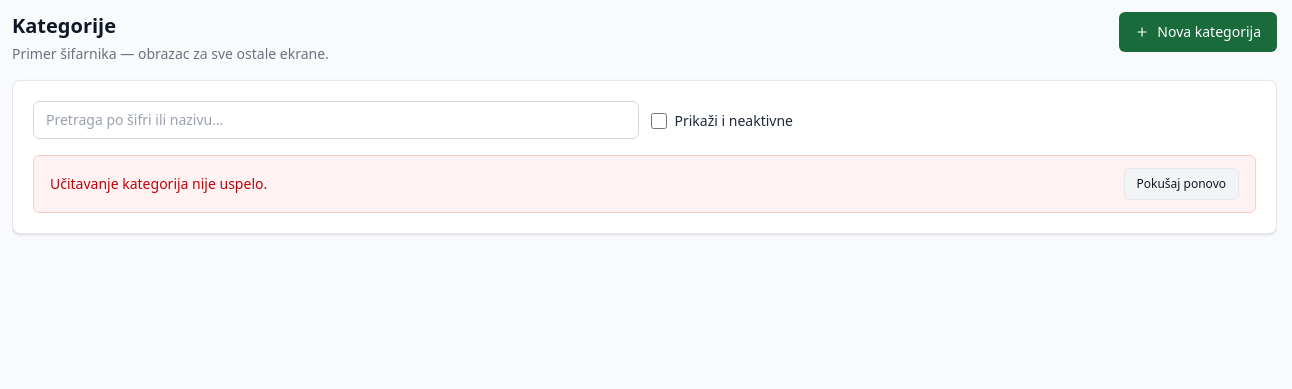
Scenario: KategorijePage — stanja ekrana › greška: inline poruka sa „Pokušaj ponovo" koje ponavlja upit
This screenshot has width=1292, height=389.
Check: the text "Učitavanje kategorija nije uspelo." is shown, box [50,174,267,194]
Click the button "Pokušaj ponovo" at (1181, 184), box [1124,168,1239,200]
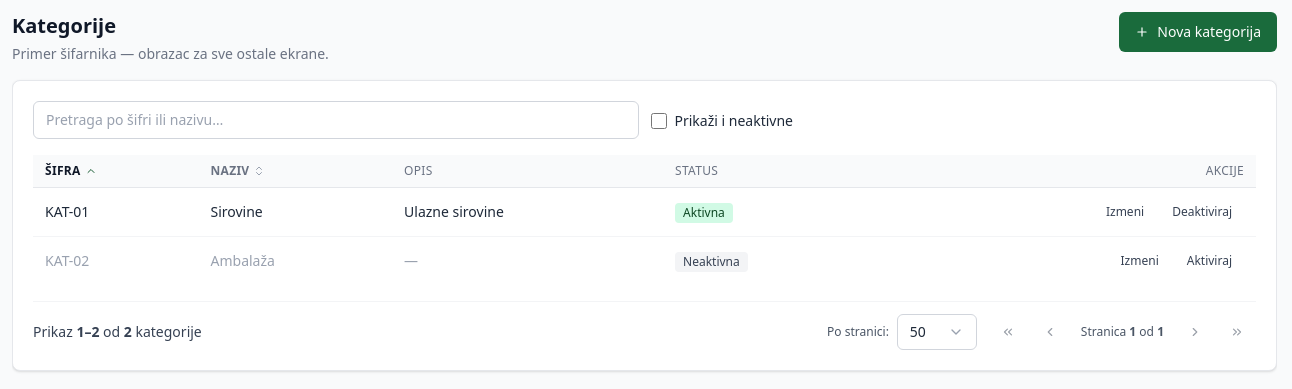
Check: the text "Sirovine" is shown, box [198,188,392,236]
